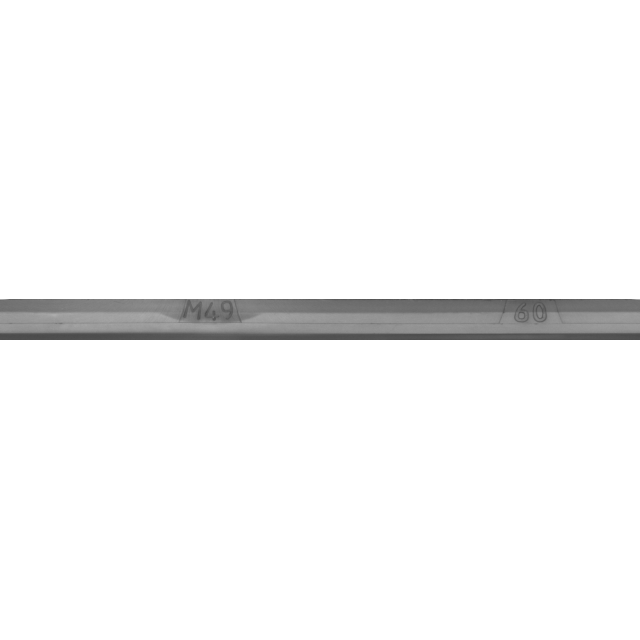mohao: (109, 270, 309, 370)
xuehao: (428, 270, 628, 370)
